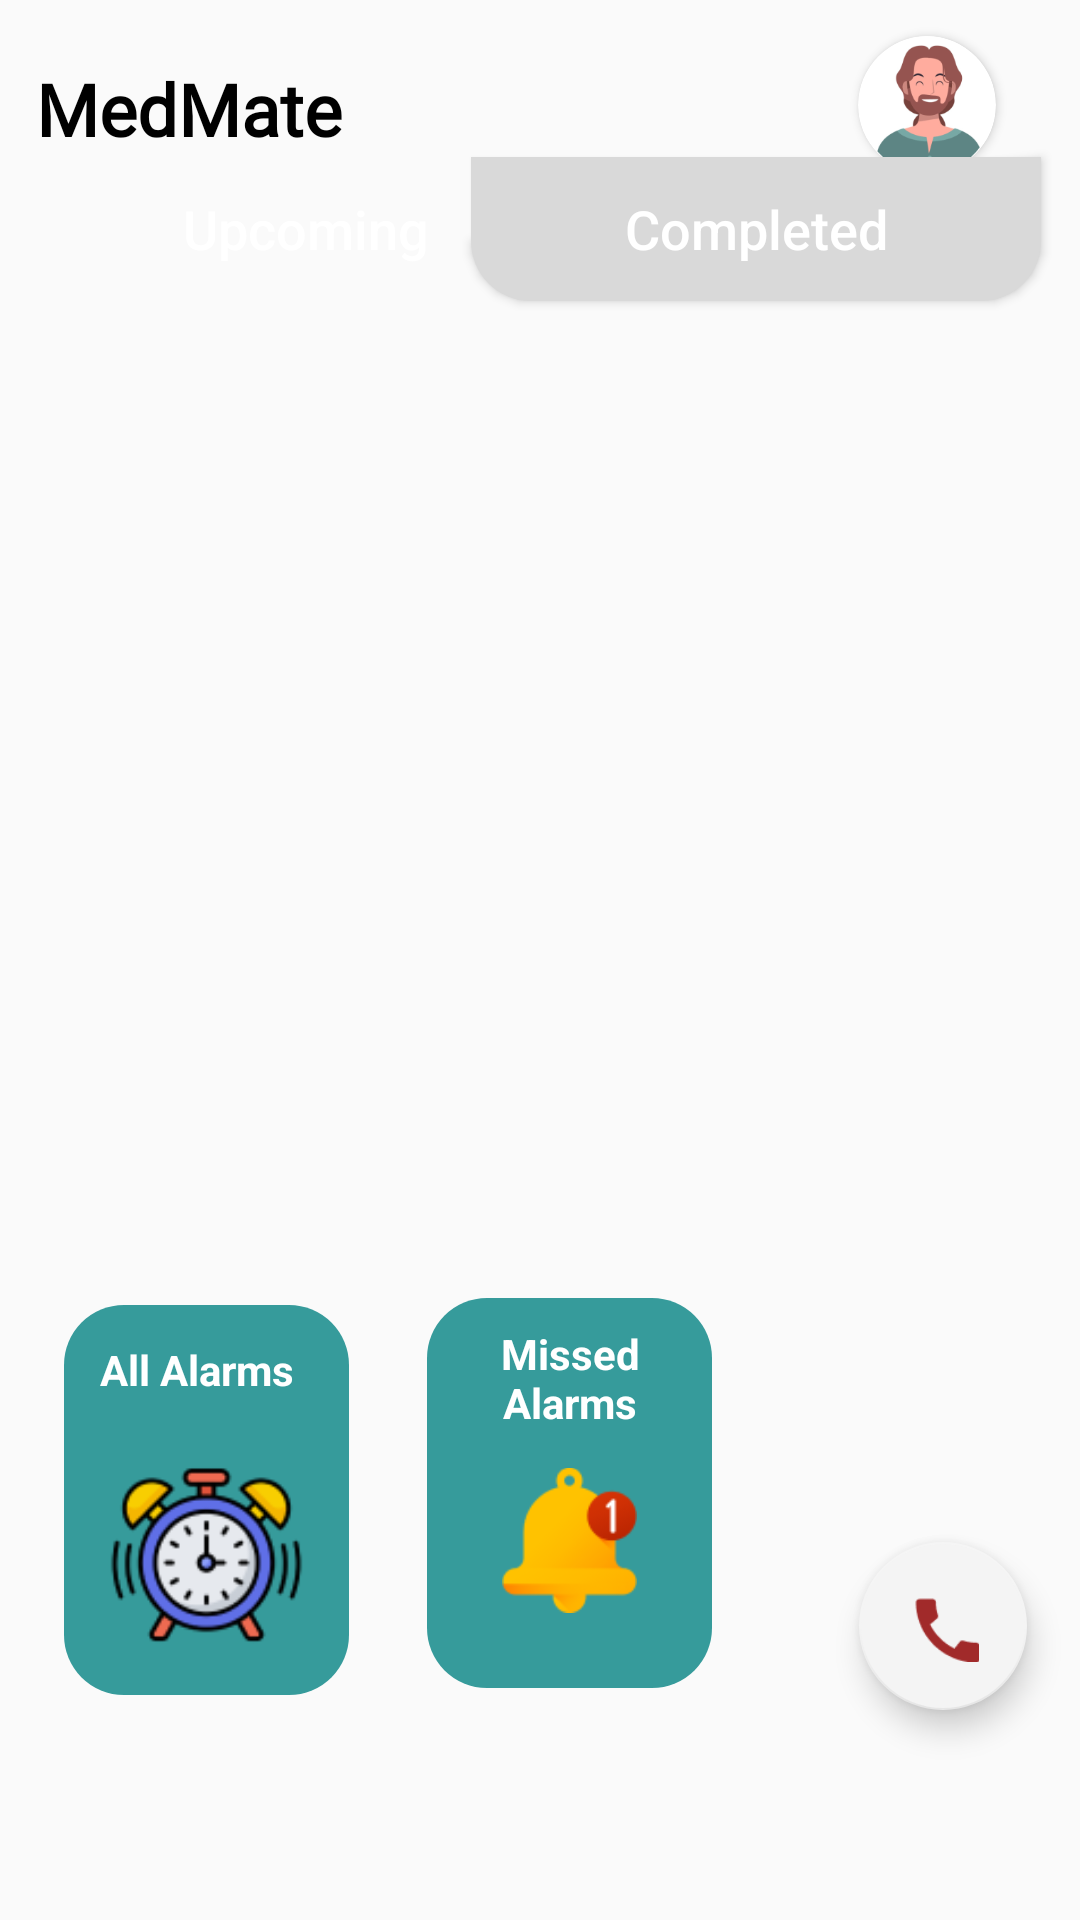

Screen size 1080x1920. Icon name, then its box in pixels as (x1, y1, x2, y2):
phone emerg: (865, 1598, 979, 1662)
user: (858, 45, 996, 174)
